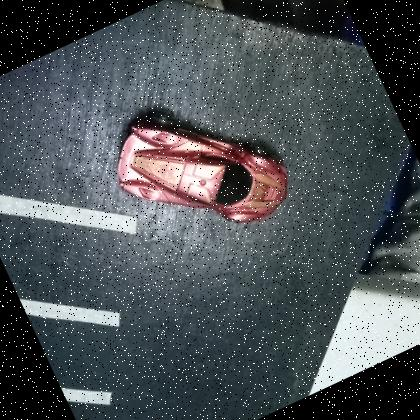Car: (95, 70, 302, 270)
